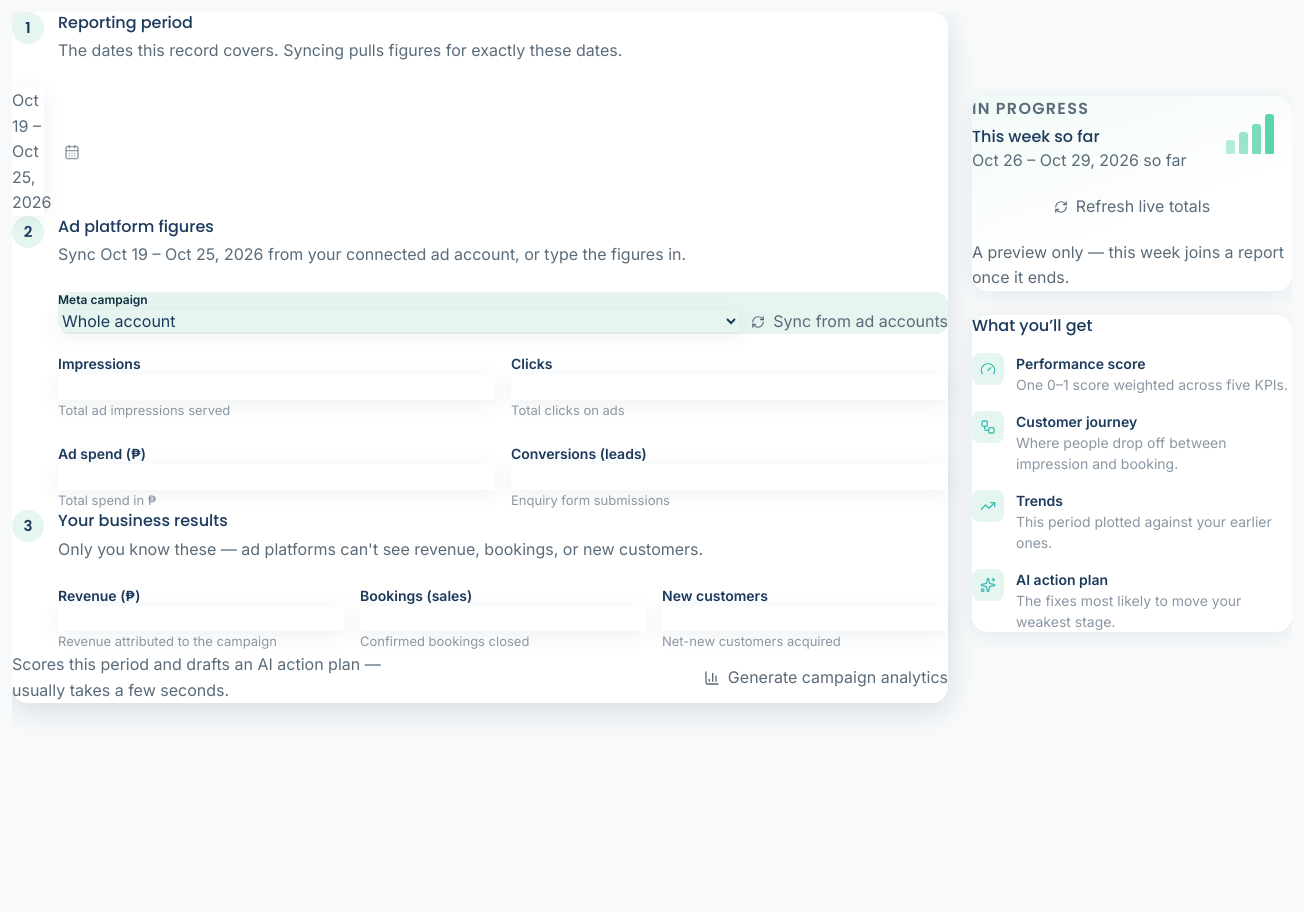
Test: IngestionForm ad sync › says there was no ad delivery instead of filling "synced" zeros
Click the button "Sync from ad accounts" at (850, 322), box [751,309,948,334]
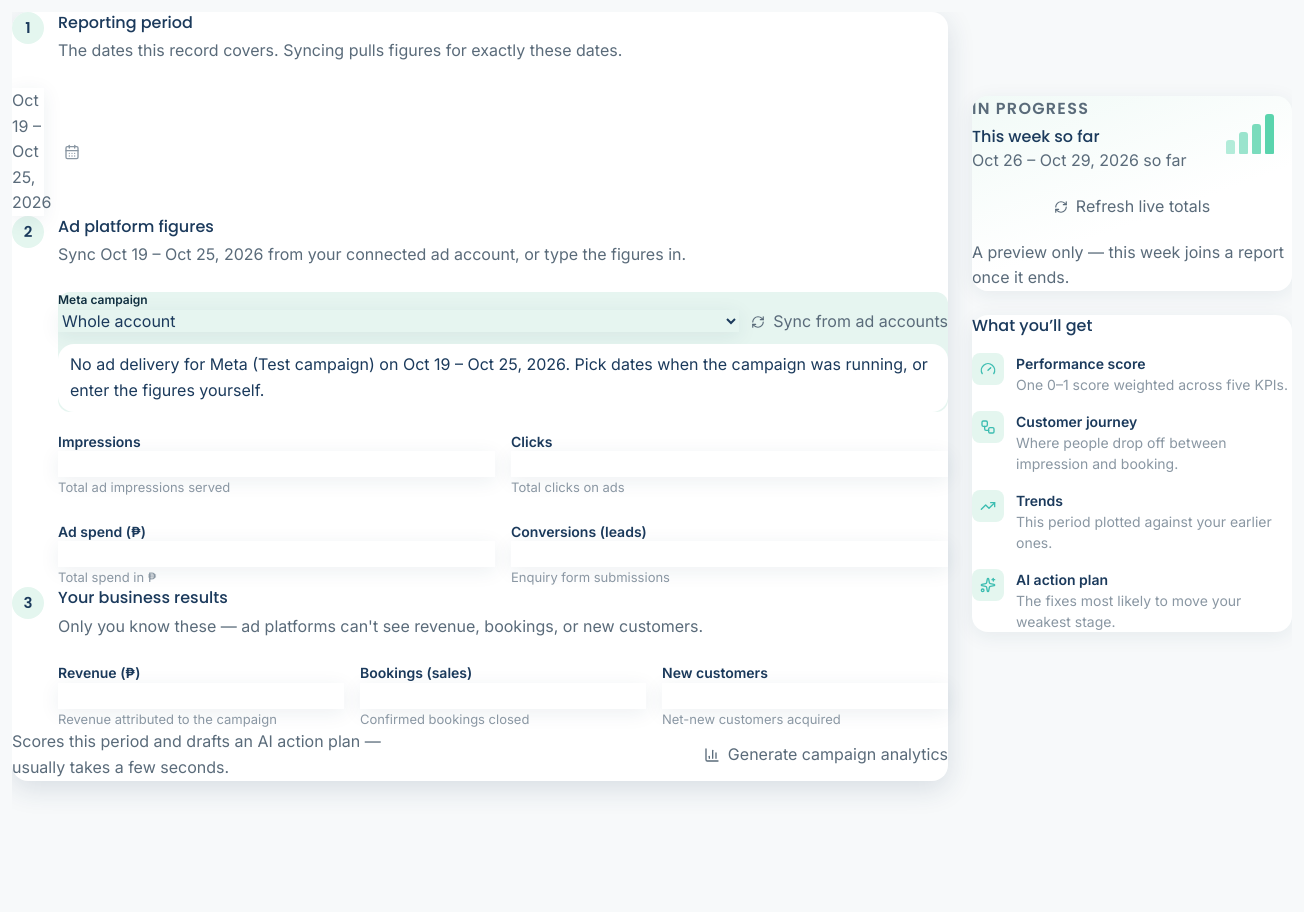
Expected: the number field labelled "Impressions Total ad impressions served" is empty, [58,451,495,477]
Expected: the text "No ad delivery for Meta (Test campaign)" is shown, [70,354,928,400]
